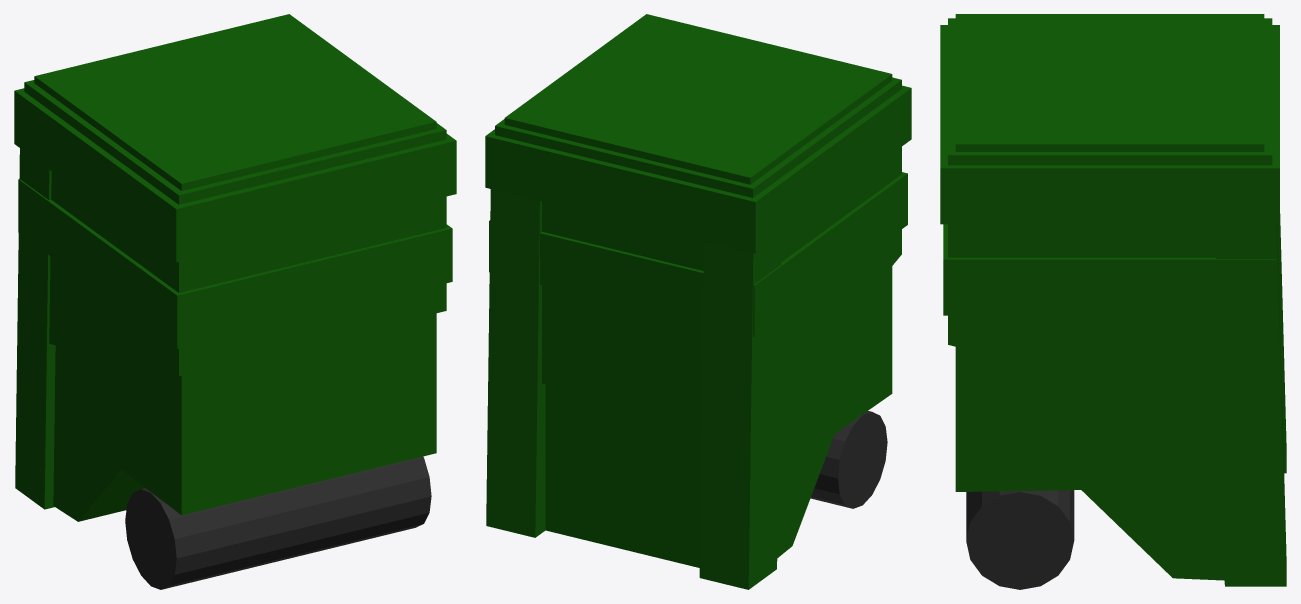
File: Trashcan.fbx
The picture shows the model from 3 angles, left to right: view 1: azimuth 30°, elevation 25°; view 2: azimuth 150°, elevation 25°; view 3: azimuth 270°, elevation 25°; orthographic projection. The views are drawn at different scales.
Parts seen in each view (by area): view 1: Cube; view 2: Cube; view 3: Cube.
Boxes of the visible parts, box(x1,y1,x2,y2) form: Cube: box(14, 14, 456, 589); Cube: box(485, 14, 911, 589); Cube: box(940, 14, 1286, 589).
Bounding box in the file's own units: 220 × 319 × 224.
